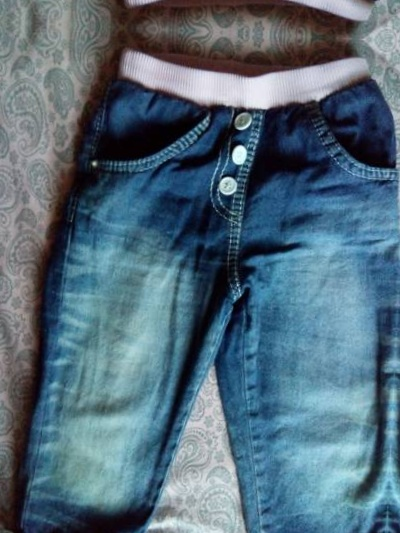Pants: (3, 33, 400, 533), (29, 0, 400, 31), (387, 51, 400, 533)
